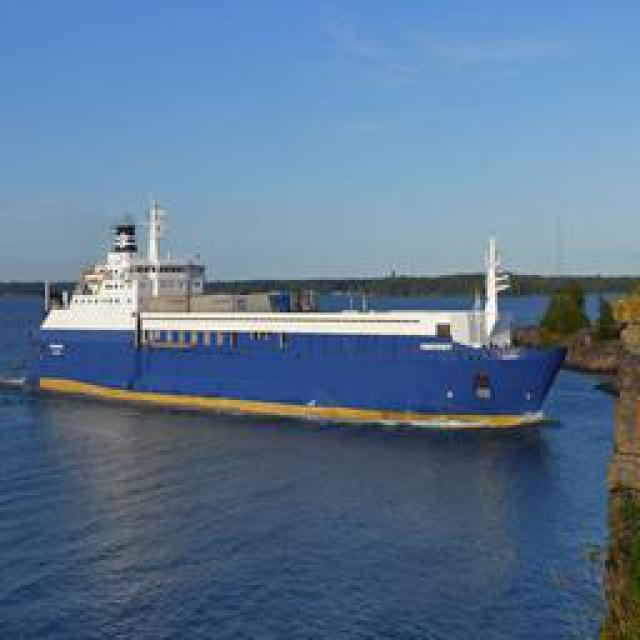Ship: (25, 224, 583, 429)
